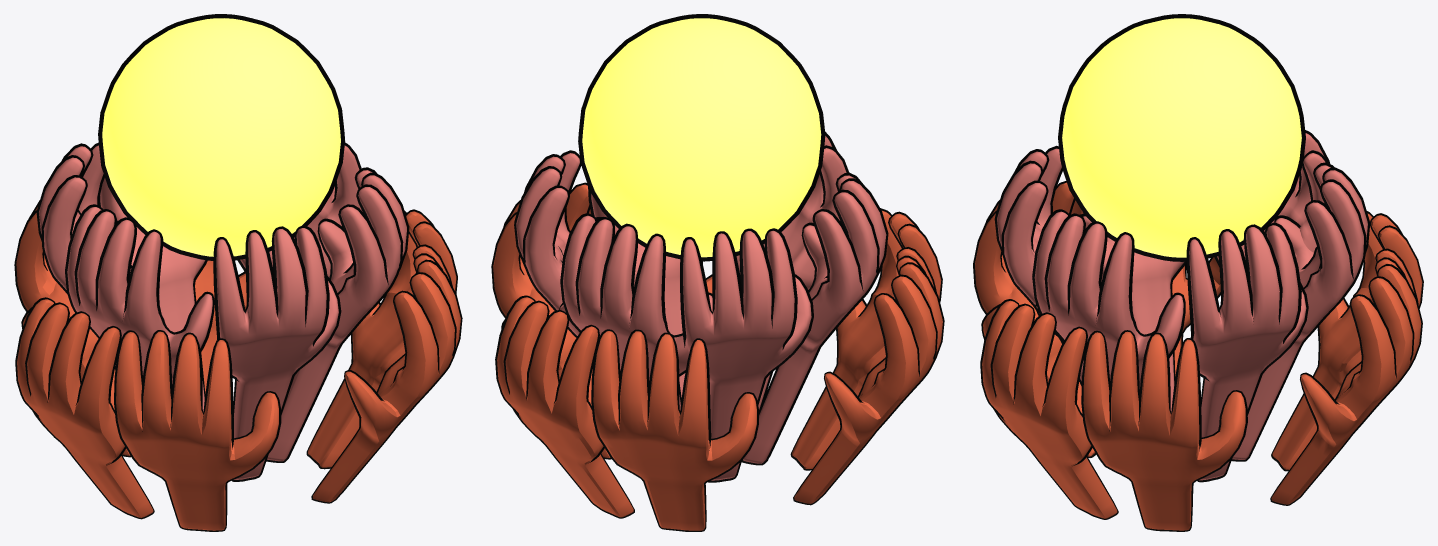
File: ManoLamp.fbx
The picture shows the model from 3 angles, left to right: view 1: azimuth 30°, elevation 25°; view 2: azimuth 150°, elevation 25°; view 3: azimuth 270°, elevation 25°; orthographic projection.
Visible parts, largest first — view 1: Cube.002, Cube, Sphere; view 2: Cube.002, Cube, Sphere; view 3: Cube.002, Cube, Sphere.
Boxes of the visible parts, x1,y1,x2,y2 form: Cube.002: (14,200,462,531); Cube: (36,142,409,481); Sphere: (98,14,345,260); Cube.002: (491,182,944,531); Cube: (514,131,888,482); Sphere: (578,14,825,261); Cube.002: (973,181,1423,531); Cube: (994,130,1370,482); Sphere: (1058,14,1305,261).
Size of the model in its own units: 1059 by 1084 by 973.
